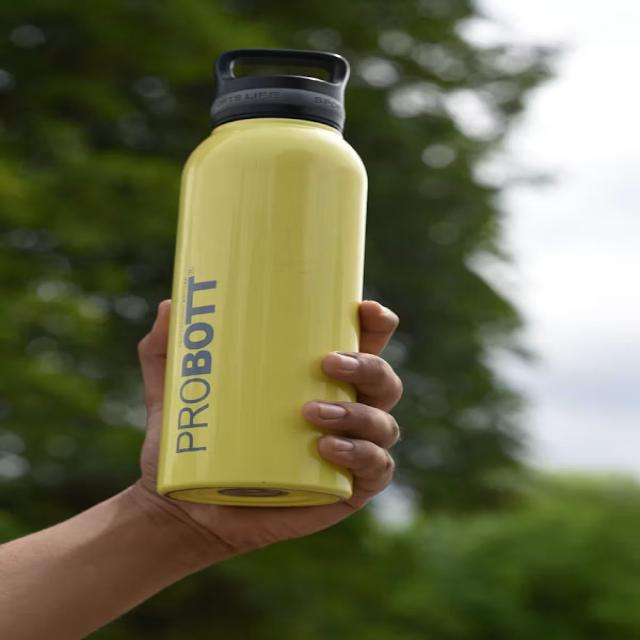Bottle: (157, 50, 366, 506)
